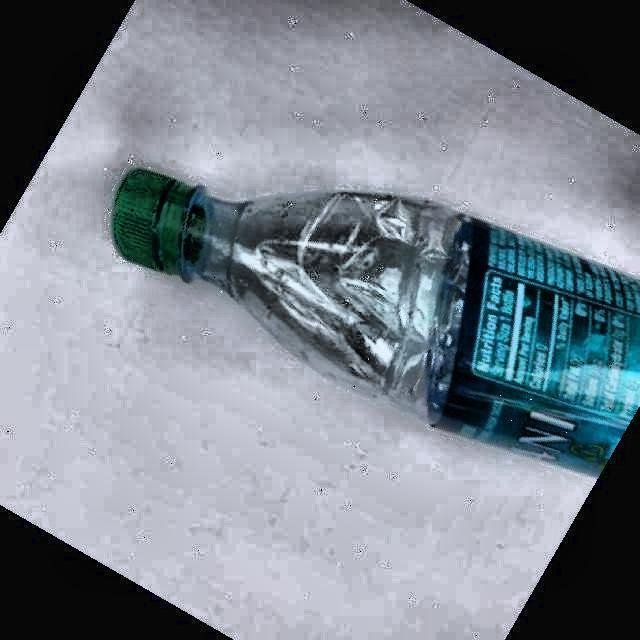plastic: (112, 168, 640, 473)
